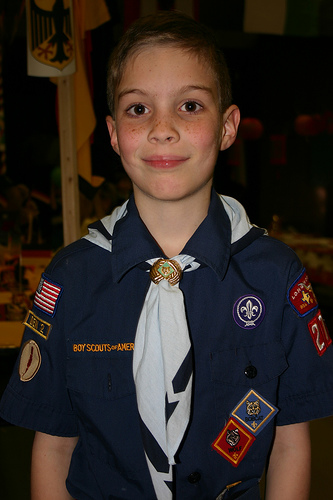without_mask: (87, 22, 252, 213)
